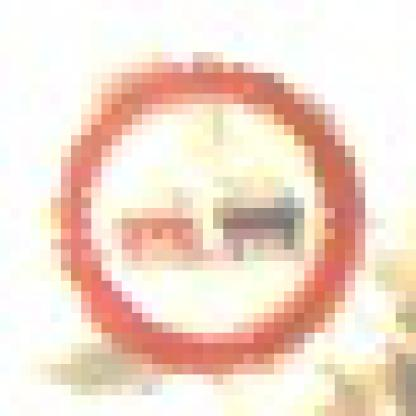No Overtaking: (52, 53, 356, 365)
